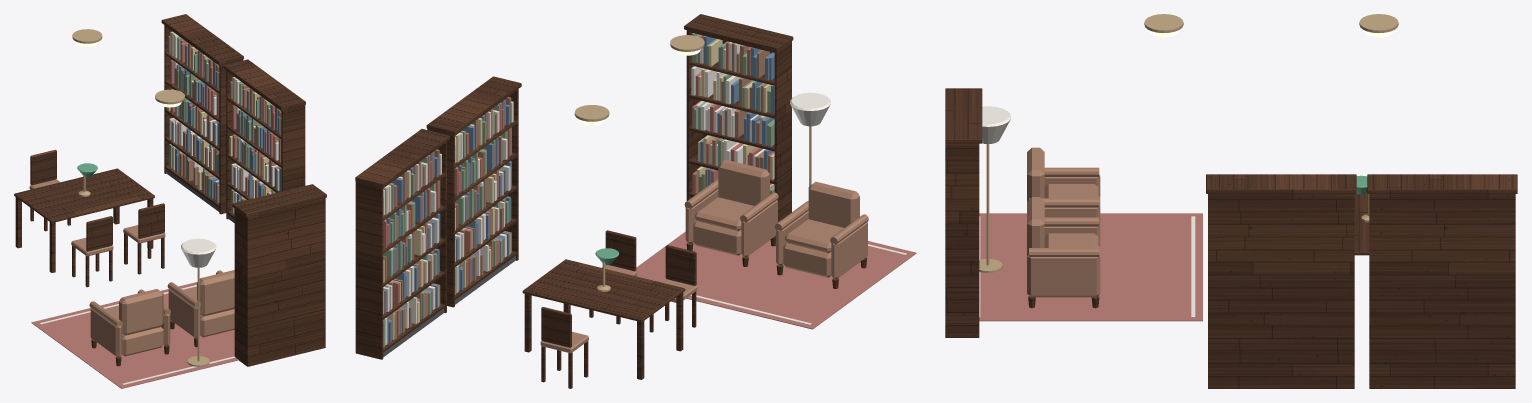
The model's file is library.glb.
The picture shows the model from 3 angles, left to right: view 1: azimuth 30°, elevation 25°; view 2: azimuth 150°, elevation 25°; view 3: azimuth 270°, elevation 25°; orthographic projection. The views are drawn at different scales.
Parts seen in each view (by area): view 1: library_dkwood, library_leather, library_rug, library_cream, library_book_a, library_book_b, library_book_c, library_bronze, library_book_d, library_dark; view 2: library_dkwood, library_leather, library_rug, library_cream, library_book_b, library_book_c, library_book_a, library_book_d, library_bronze, library_dark; view 3: library_dkwood, library_rug, library_leather, library_bronze, library_cream.
Boxes of the visible parts, <box> form: library_dkwood: <box>14,14,326,366</box>; library_leather: <box>29,36,281,357</box>; library_rug: <box>31,282,238,388</box>; library_cream: <box>39,31,281,384</box>; library_book_a: <box>169,36,280,201</box>; library_book_b: <box>169,44,281,202</box>; library_book_c: <box>169,37,279,213</box>; library_bronze: <box>72,29,209,366</box>; library_book_d: <box>167,32,271,213</box>; library_dark: <box>166,170,234,222</box>; library_dkwood: <box>355,14,867,388</box>; library_leather: <box>383,35,868,353</box>; library_rug: <box>636,231,916,329</box>; library_cream: <box>383,42,906,345</box>; library_book_b: <box>383,36,774,342</box>; library_book_c: <box>383,33,774,347</box>; library_book_a: <box>383,41,774,339</box>; library_book_d: <box>383,39,774,344</box>; library_bronze: <box>574,35,811,291</box>; library_dark: <box>383,196,692,356</box>; library_dkwood: <box>945,88,1517,388</box>; library_rug: <box>979,213,1202,321</box>; library_leather: <box>1027,147,1100,297</box>; library_bronze: <box>979,14,1398,272</box>; library_cream: <box>979,106,1195,317</box>.
Size of the model in its own units: 4.24 by 3.05 by 5.86.
12 materials, 1 textured.
